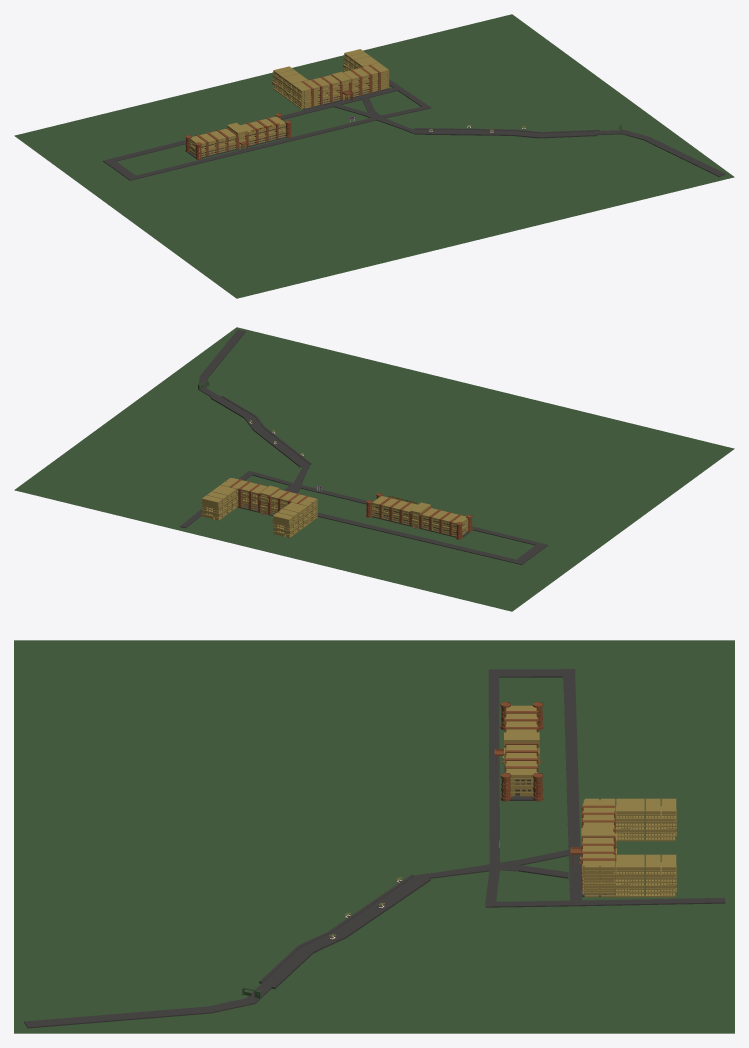
3 renders of one model, top to bottom at view 1: azimuth 30°, elevation 25°; view 2: azimuth 150°, elevation 25°; view 3: azimuth 270°, elevation 25°, orthographic. The views are drawn at different scales.
Parts seen in each view (by area): view 1: GROUND, ROAD, BBLOCK, ADMIN; view 2: GROUND, ROAD, BBLOCK, ADMIN; view 3: GROUND, ROAD, BBLOCK, ADMIN.
Boxes of the visible parts, box(x1,y1,x2,y2) form: GROUND: box(14, 14, 734, 298); ROAD: box(103, 79, 725, 180); BBLOCK: box(272, 49, 389, 109); ADMIN: box(185, 113, 291, 159); GROUND: box(14, 327, 734, 611); ROAD: box(180, 330, 548, 564); BBLOCK: box(201, 478, 317, 537); ADMIN: box(366, 493, 472, 539); GROUND: box(14, 640, 734, 1033); ROAD: box(24, 669, 725, 1028); BBLOCK: box(570, 798, 676, 897); ADMIN: box(494, 702, 543, 801).
Size of the model in its own units: 1043 by 41.47 by 807.
